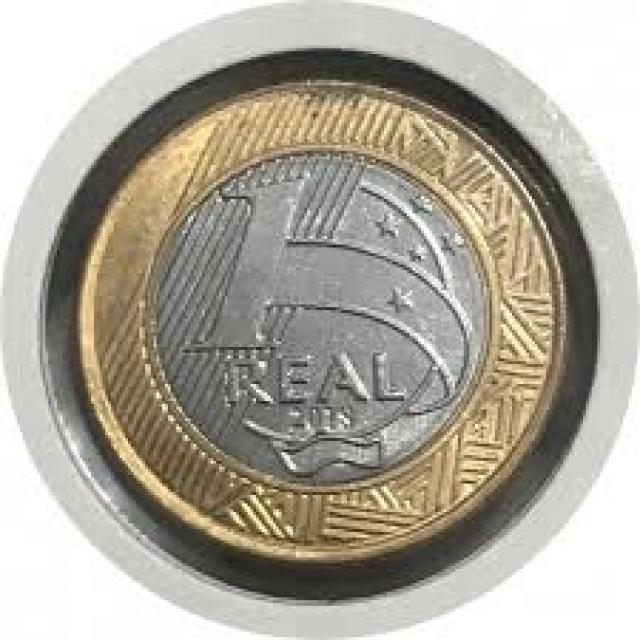1 real: (82, 86, 553, 562)
